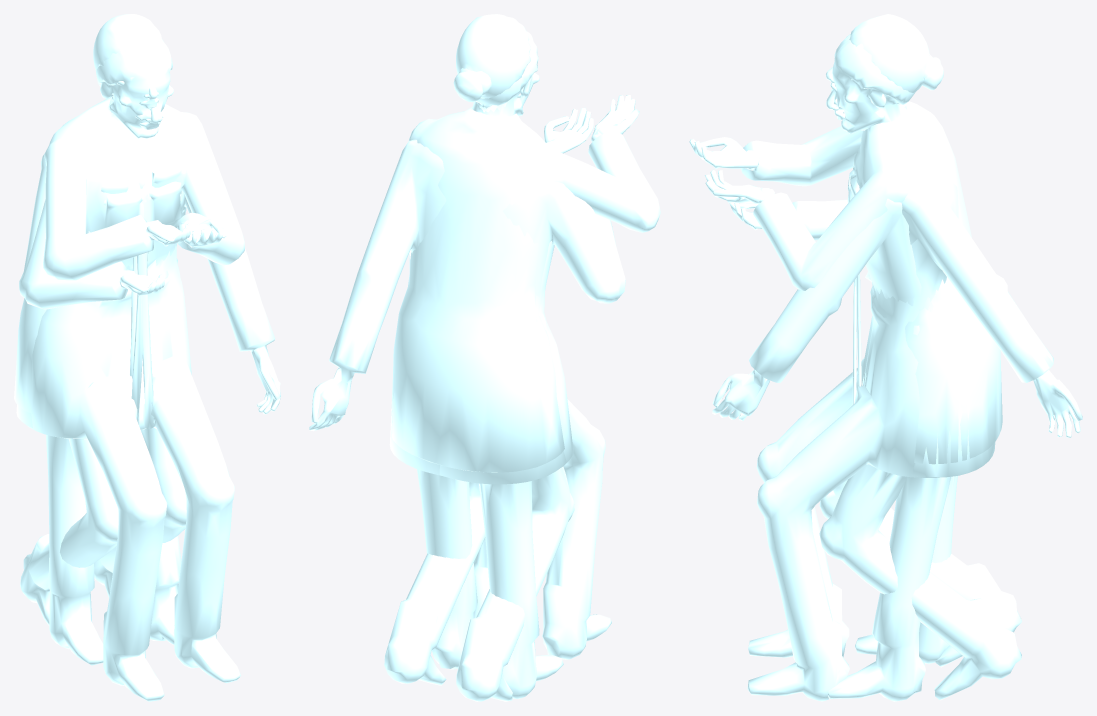
File: echo_leyla_1998_lens.glb
The picture shows the model from 3 angles, left to right: view 1: azimuth 30°, elevation 25°; view 2: azimuth 150°, elevation 25°; view 3: azimuth 270°, elevation 25°; orthographic projection. The views are drawn at different scales.
Visible parts, largest first — view 1: pose_walk_b, pose_seat, pose_walk; view 2: pose_seat, pose_walk_b, pose_walk; view 3: pose_seat, pose_walk, pose_walk_b.
Part boxes in pixels (<box>): pose_walk_b: <box>21,48,280,701</box>; pose_seat: <box>14,14,244,665</box>; pose_walk: <box>16,38,240,683</box>; pose_seat: <box>390,14,660,698</box>; pose_walk_b: <box>384,31,611,685</box>; pose_walk: <box>309,68,625,701</box>; pose_seat: <box>689,14,1002,701</box>; pose_walk: <box>729,36,1082,701</box>; pose_walk_b: <box>712,34,1021,700</box>.
Bounding box in the file's own units: 0.5796 × 1.67 × 0.8969.
